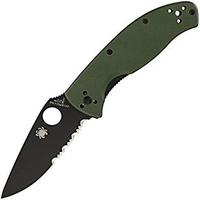knife: (1, 10, 190, 199)
